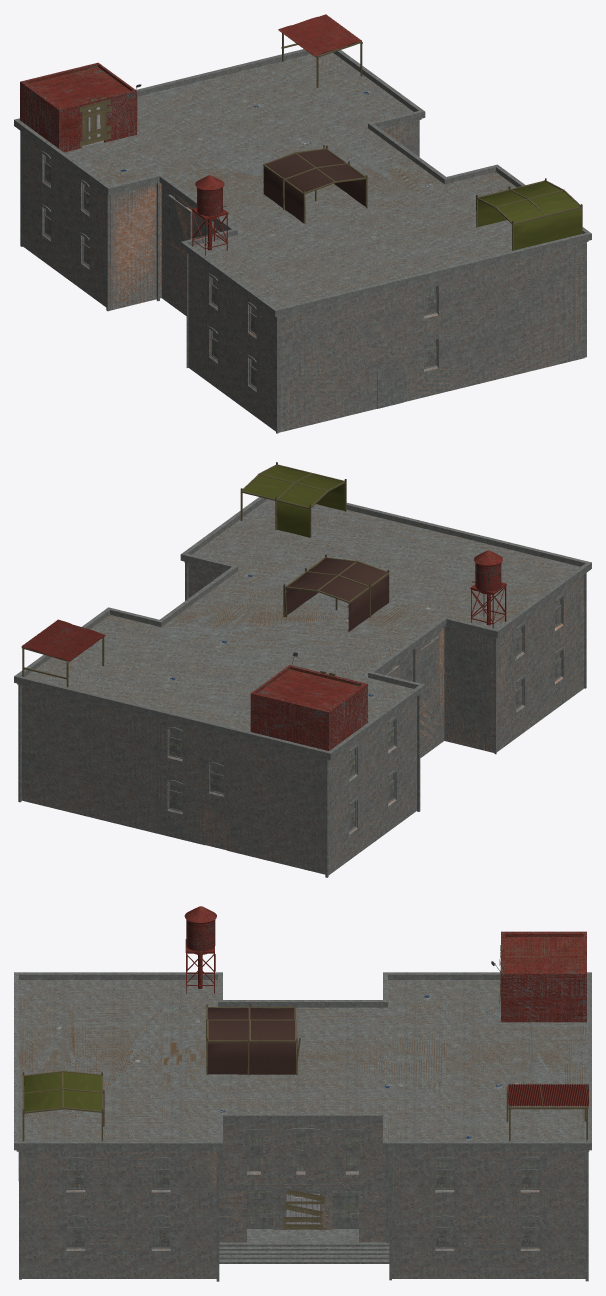
The model's file is Building.fbx.
3 views of the same model, one above another, from view 1: azimuth 30°, elevation 25°; view 2: azimuth 150°, elevation 25°; view 3: azimuth 270°, elevation 25° (orthographic). The views are drawn at different scales.
Visible parts, largest first — view 1: Group1; view 2: Group1; view 3: Group1.
Boxes of the visible parts, <box> form: Group1: <box>14,14,591,433</box>; Group1: <box>14,462,591,877</box>; Group1: <box>14,906,591,1281</box>.
Size of the model in its own units: 27684 by 16307 by 39548.
